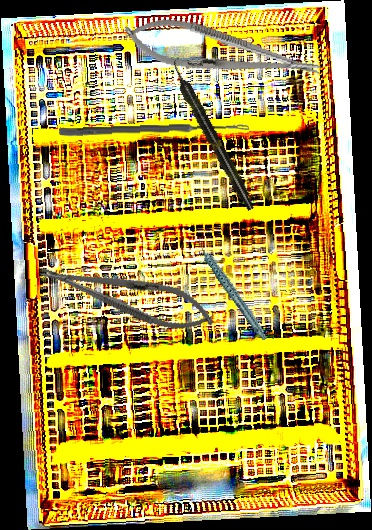Handpiece: (166, 58, 258, 213), (195, 227, 268, 350)
Needle Holder: (119, 9, 325, 95), (33, 248, 221, 342)
Surgical Spoon: (58, 121, 251, 138)
